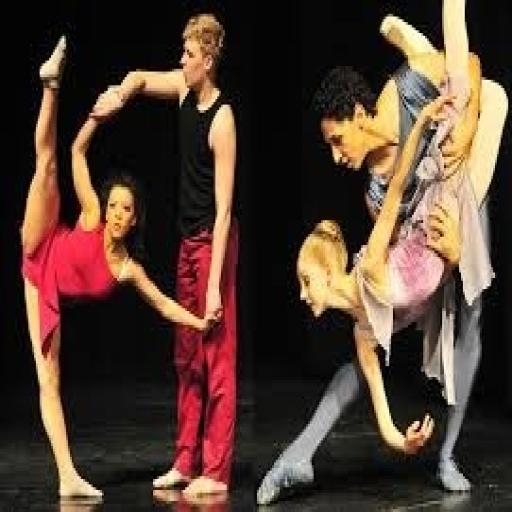dancing: (17, 30, 223, 506)
